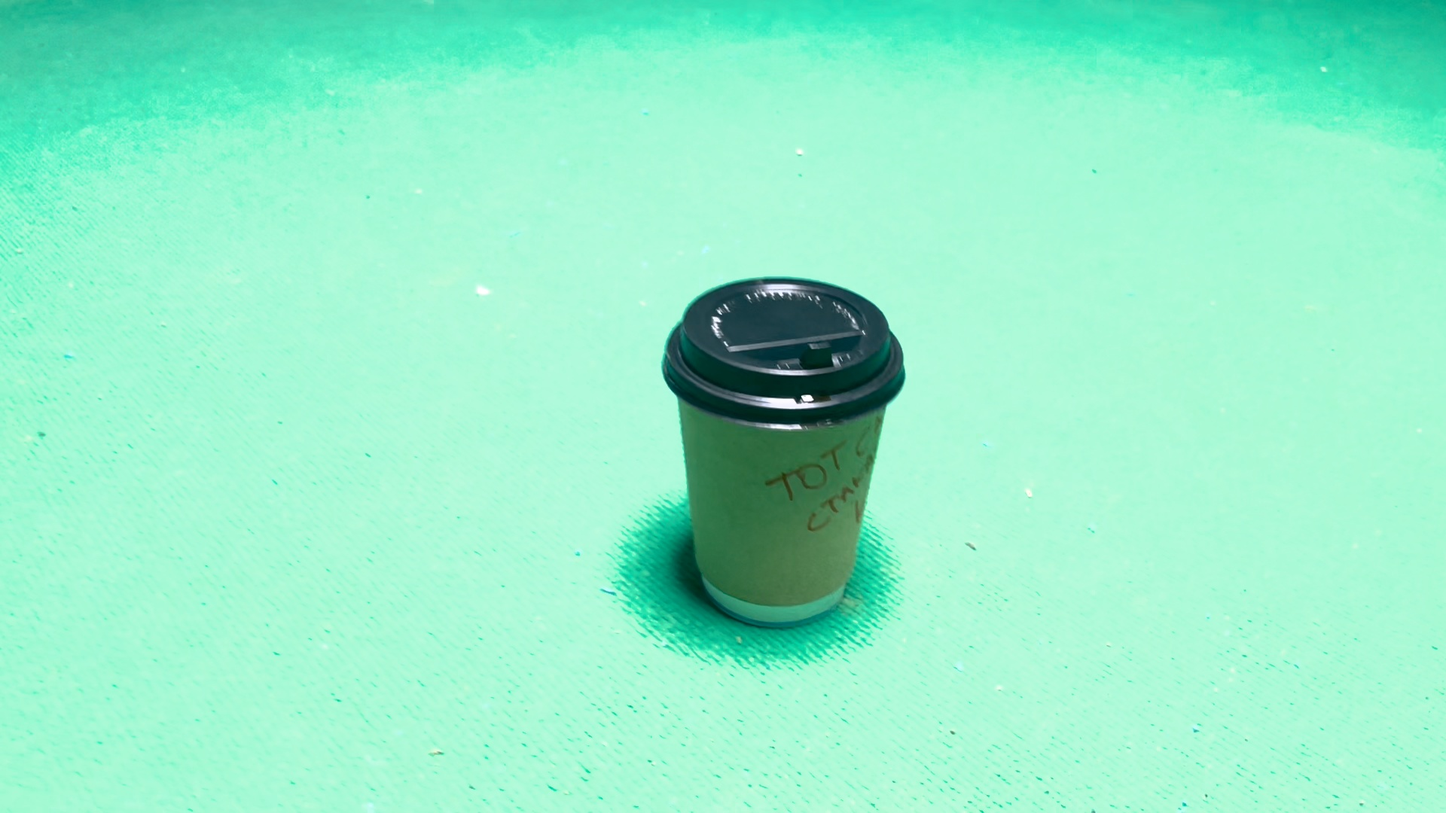cup: (728, 470, 831, 605)
